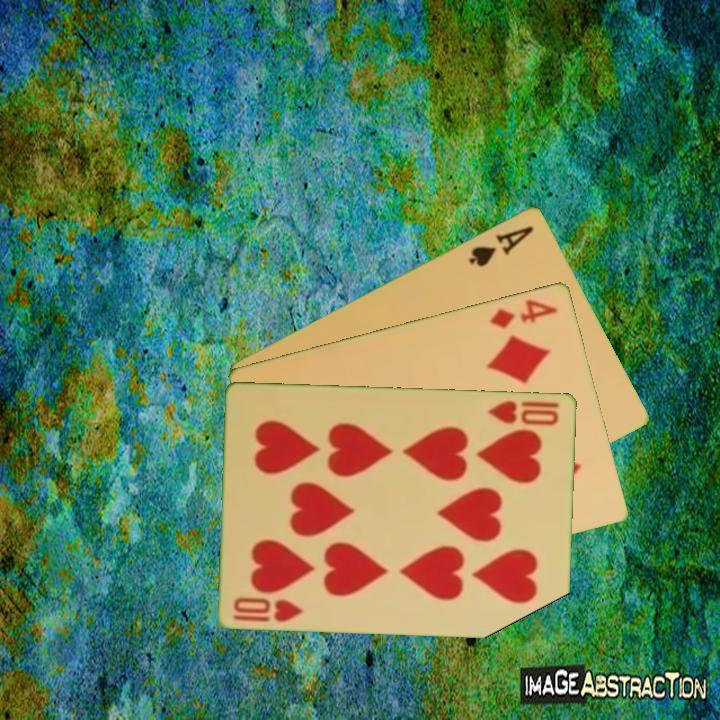10h: (230, 593, 307, 625), (485, 397, 562, 428)
4d: (486, 295, 561, 331)
As: (465, 221, 537, 269)
